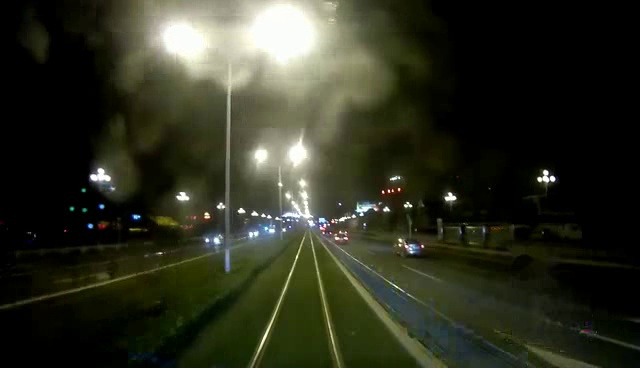car: (392, 236, 429, 260)
